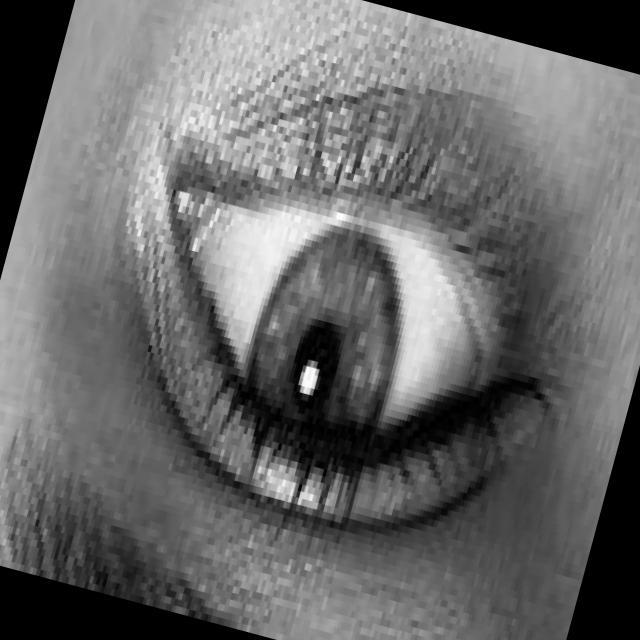Normal: (106, 86, 587, 550)
